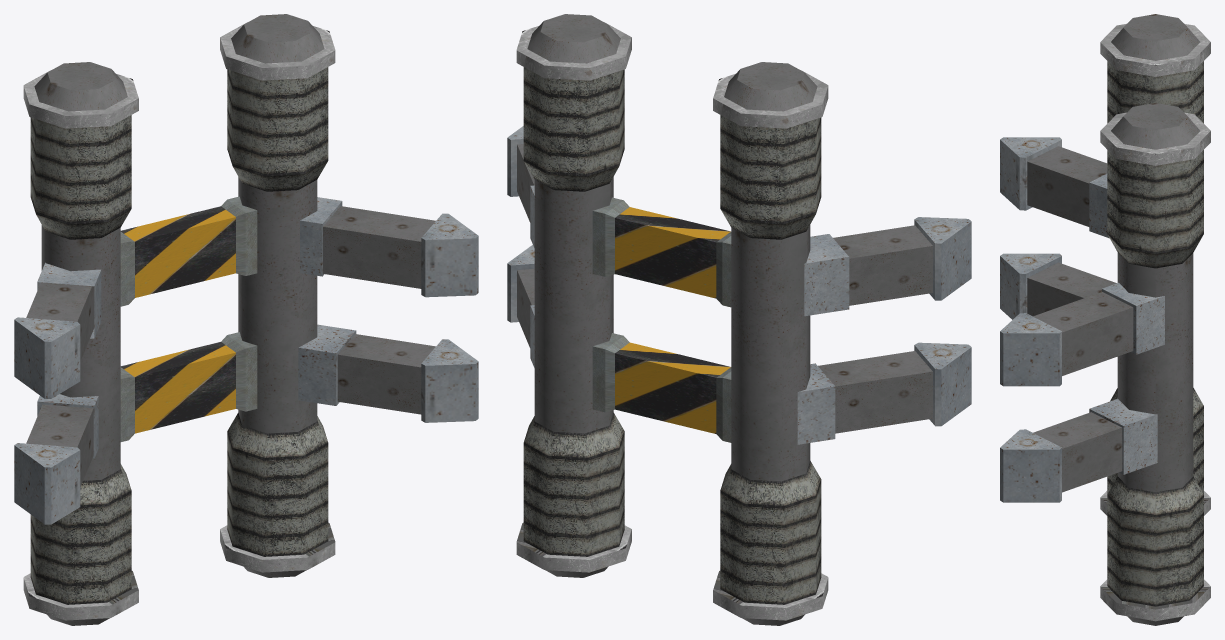
File: Ob_WallClamps2_RC.fbx
The picture shows the model from 3 angles, left to right: view 1: azimuth 30°, elevation 25°; view 2: azimuth 150°, elevation 25°; view 3: azimuth 270°, elevation 25°; orthographic projection. The views are drawn at different scales.
Parts seen in each view (by area): view 1: Ob_WallClamps2_RC; view 2: Ob_WallClamps2_RC; view 3: Ob_WallClamps2_RC.
Boxes of the visible parts, x1,y1,x2,y2 form: Ob_WallClamps2_RC: (14,14,478,625); Ob_WallClamps2_RC: (507,14,971,625); Ob_WallClamps2_RC: (1000,14,1210,625).
Bounding box in the file's own units: 721 × 849 × 327.
